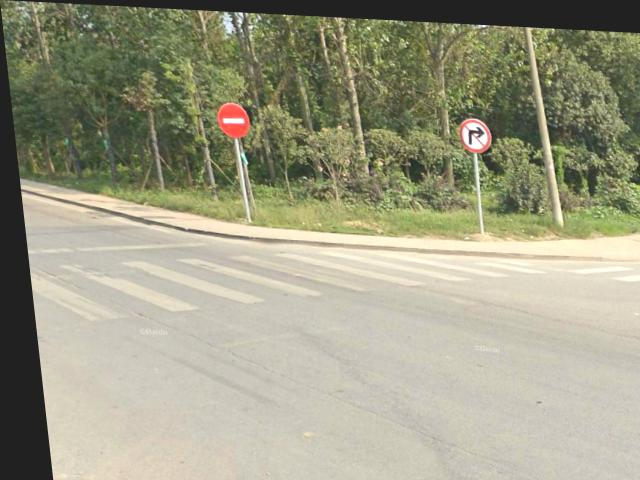not_turn_right: (455, 113, 491, 151)
